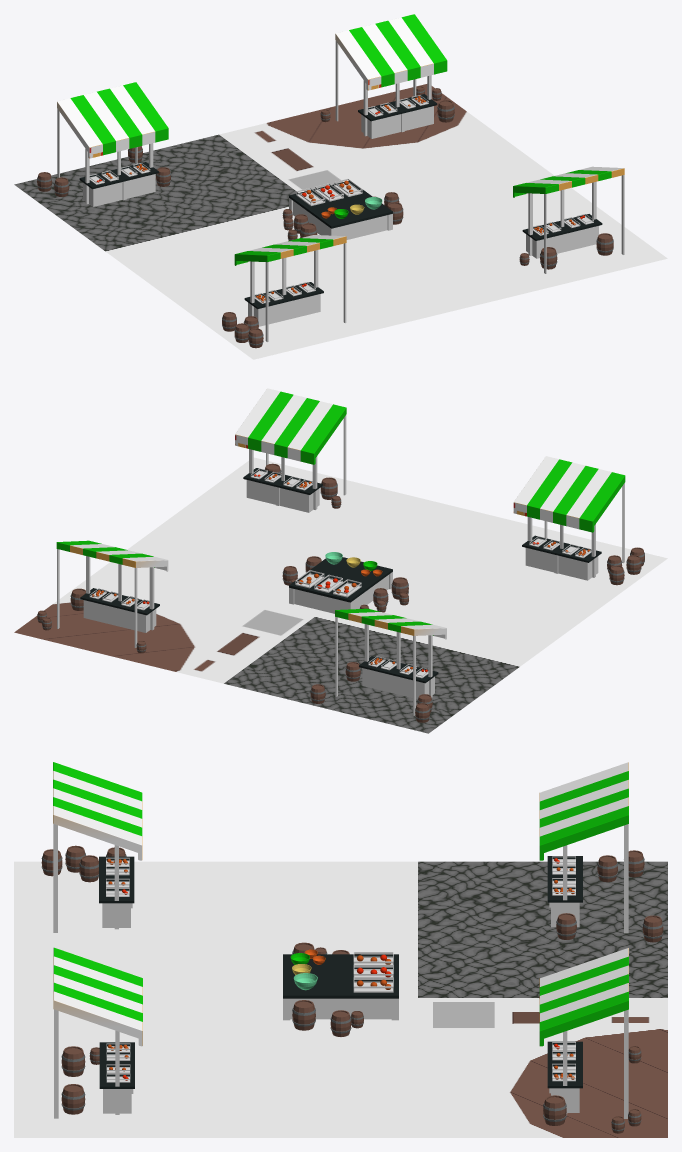
Rendered from market.fbx.
The picture shows the model from 3 angles, top to bottom: view 1: azimuth 30°, elevation 25°; view 2: azimuth 150°, elevation 25°; view 3: azimuth 270°, elevation 25°; orthographic projection. The views are drawn at different scales.
Parts seen in each view (by area): view 1: Market .002; view 2: Market .002; view 3: Market .002.
Part boxes in pixels (x1=…): Market .002: x1=14, y1=14, x2=667, y2=359; Market .002: x1=14, y1=388, x2=667, y2=733; Market .002: x1=14, y1=762, x2=667, y2=1137.
Size of the model in its own units: 1000 by 200 by 1000.
